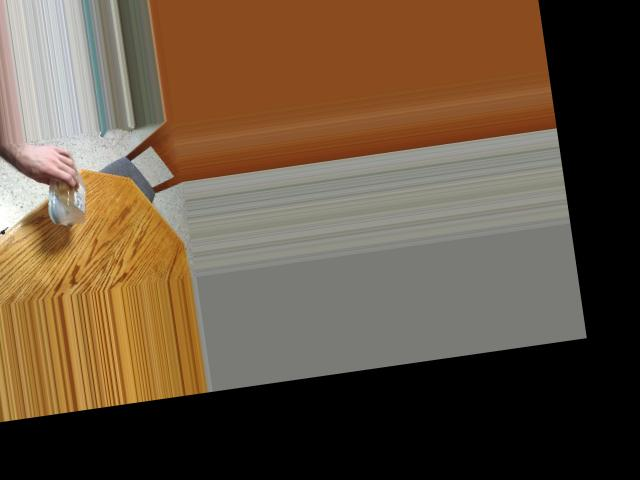cheese: (35, 155, 92, 220)
